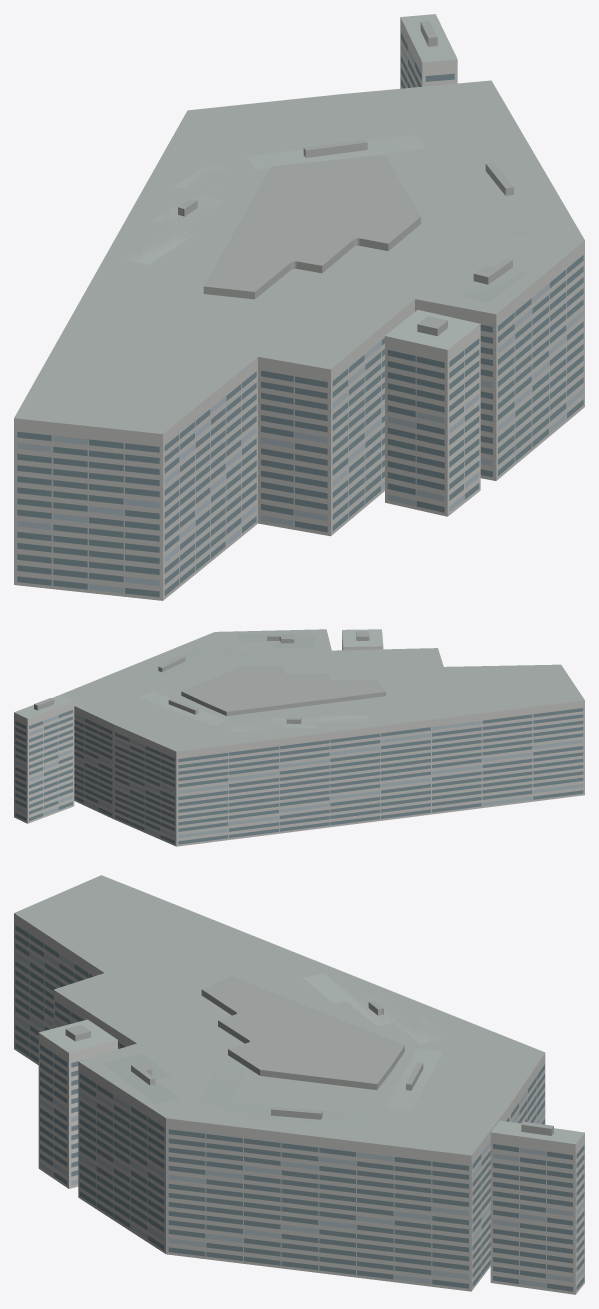
File: apt-a13790620.glb
The picture shows the model from 3 angles, top to bottom: view 1: azimuth 30°, elevation 25°; view 2: azimuth 150°, elevation 25°; view 3: azimuth 270°, elevation 25°; orthographic projection. The views are drawn at different scales.
Parts seen in each view (by area): view 1: apt-a13790620; view 2: apt-a13790620; view 3: apt-a13790620.
Part boxes in pixels (x1,y1,x2,y2): apt-a13790620: (14, 14, 584, 600); apt-a13790620: (14, 629, 584, 846); apt-a13790620: (14, 875, 584, 1294).
Bounding box in the file's own units: 204 × 53 × 174.
